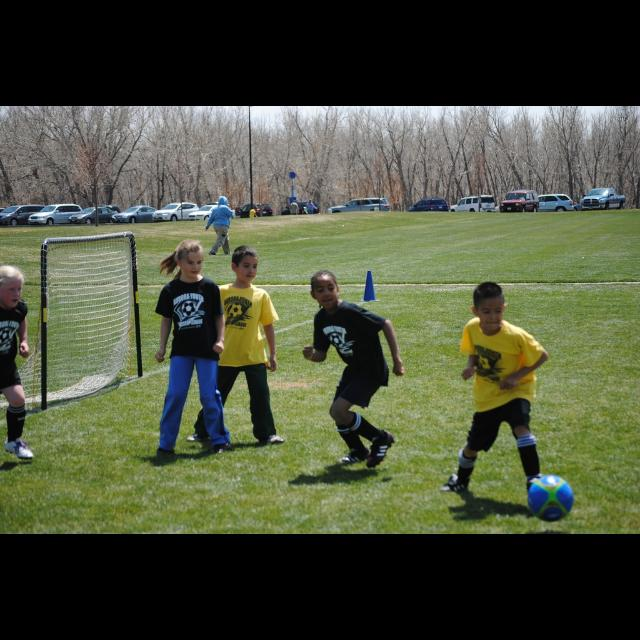Football: (528, 473, 574, 521)
